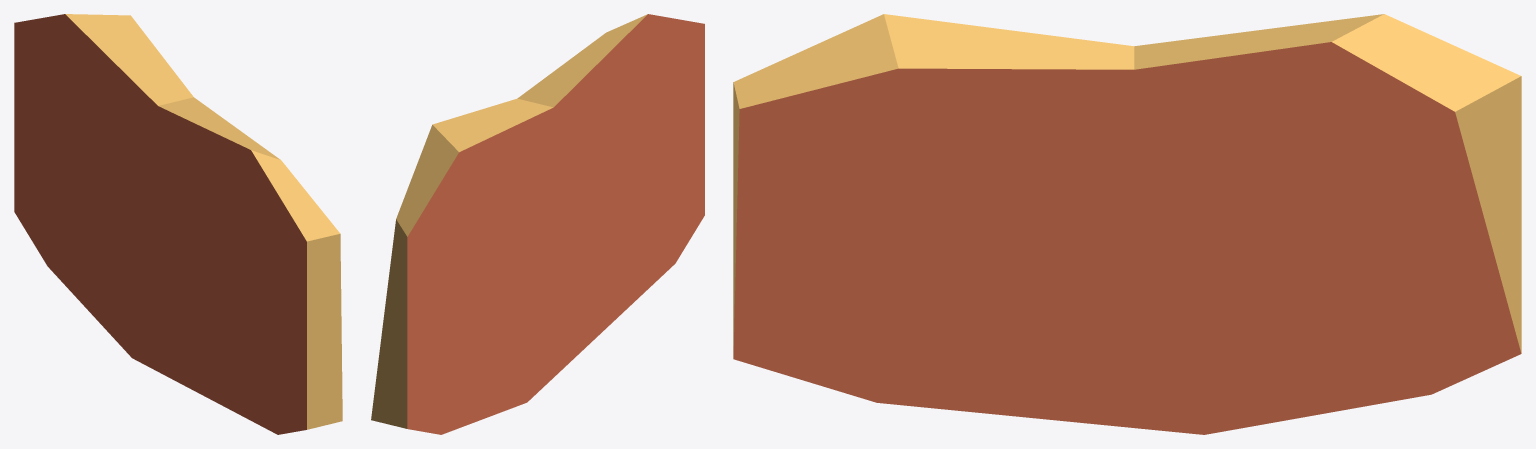
File: Dosca.fbx
3 views of the same model, side by side, from view 1: azimuth 30°, elevation 25°; view 2: azimuth 150°, elevation 25°; view 3: azimuth 270°, elevation 25° (orthographic). The views are drawn at different scales.
Parts seen in each view (by area): view 1: Куб; view 2: Куб; view 3: Куб.
Boxes of the visible parts, box(x1,y1,x2,y2) form: Куб: box(14, 14, 342, 434); Куб: box(371, 14, 704, 434); Куб: box(733, 14, 1521, 434).
Size of the model in its own units: 100 by 55.97 by 9.09.
